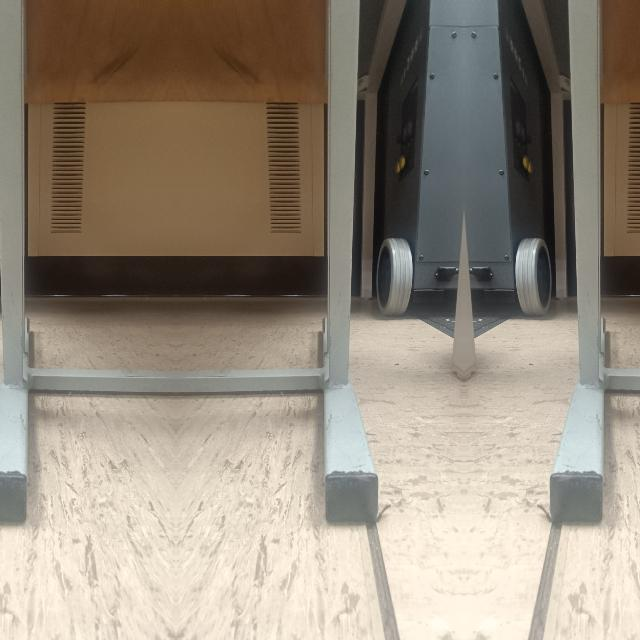obstacle: (319, 206, 379, 522), (548, 206, 608, 522), (0, 206, 31, 521)
